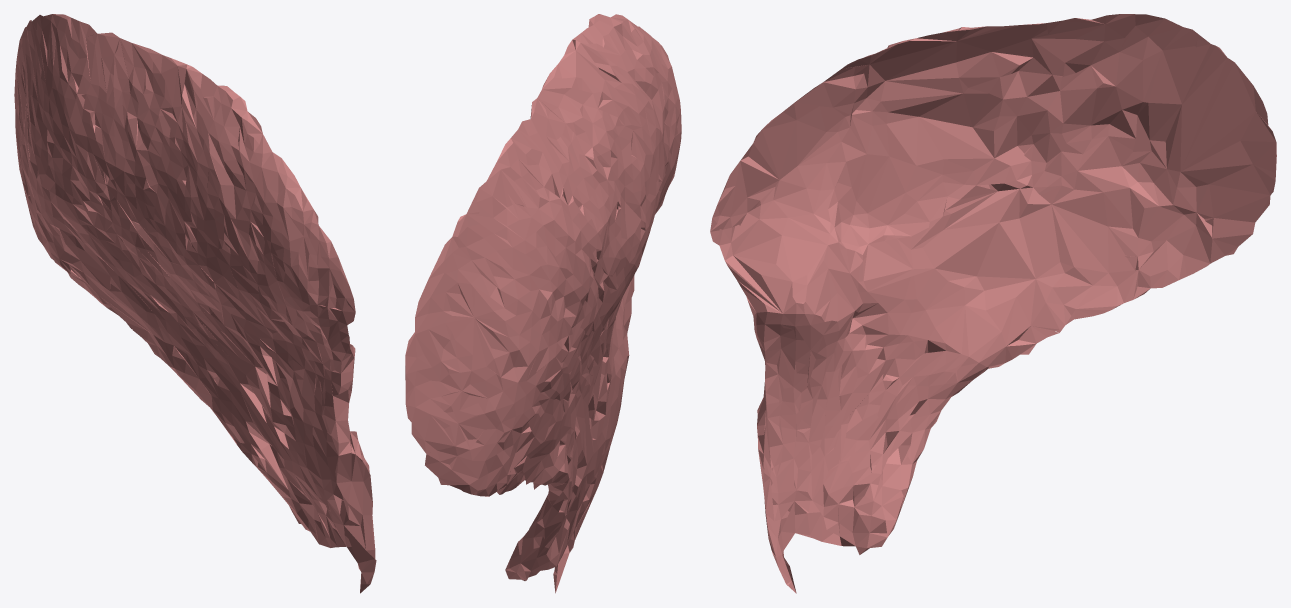
File: Temporalis_muscle.r.glb
3 renders of one model, left to right at view 1: azimuth 30°, elevation 25°; view 2: azimuth 150°, elevation 25°; view 3: azimuth 270°, elevation 25°, orthographic. The views are drawn at different scales.
Parts seen in each view (by area): view 1: Temporalis_muscle.r; view 2: Temporalis_muscle.r; view 3: Temporalis_muscle.r.
Boxes of the visible parts, x1,y1,x2,y2 form: Temporalis_muscle.r: [14, 14, 376, 593]; Temporalis_muscle.r: [405, 14, 681, 593]; Temporalis_muscle.r: [710, 14, 1276, 593].
Size of the model in its own units: 0.0389 by 0.1148 by 0.1136.
